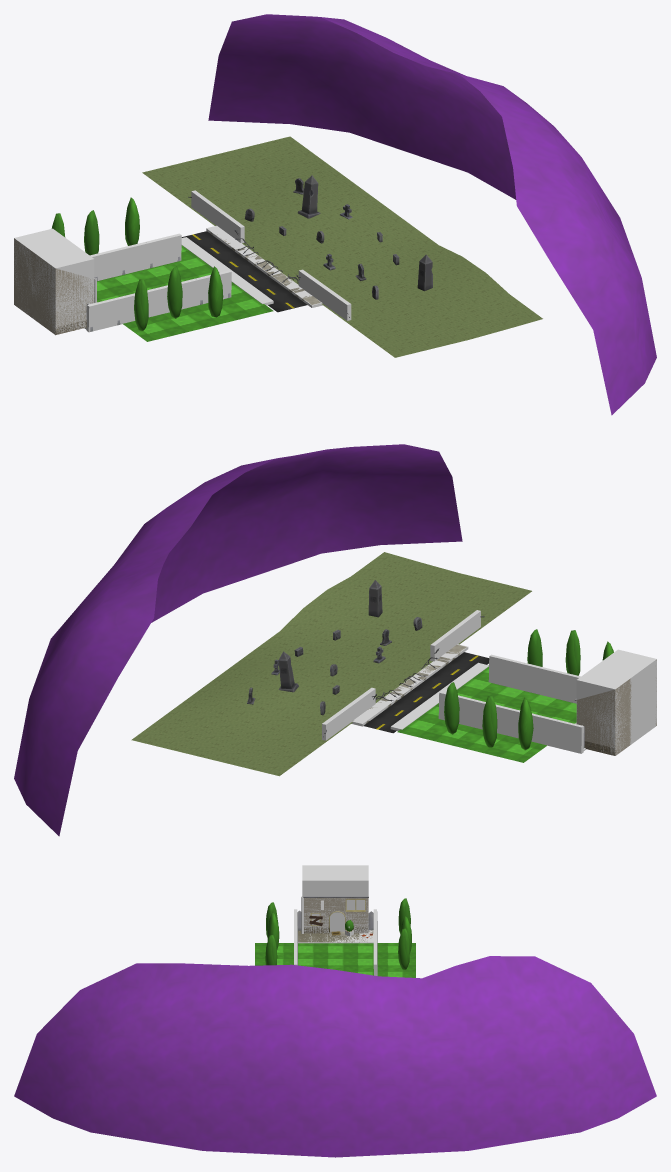
Rendered from Level_Enviroment.fbx.
3 views of the same model, one above another, from view 1: azimuth 30°, elevation 25°; view 2: azimuth 150°, elevation 25°; view 3: azimuth 270°, elevation 25° (orthographic). The views are drawn at different scales.
Parts seen in each view (by area): view 1: FogBackground, GraveyardGround, DEF_BOX_HouseBase, PlantGridPlane, HouseBase, DEF_BOX_FenceB.002, DEF_BOX_FenceB.007, RoadPlane, DEF_BOX_BlockB.003, DEF_BOX_MetalFenceLeftEdge, DEF_BOX_MetalFenceRightEdge, DEF_BOX_BlockB.006 (+6 smaller); view 2: FogBackground, GraveyardGround, DEF_BOX_HouseBase, PlantGridPlane, HouseBase, DEF_BOX_FenceB.007, DEF_BOX_FenceB.002, RoadPlane, DEF_BOX_BlockB.003, DEF_BOX_MetalFenceLeftEdge, DEF_BOX_MetalFenceRightEdge, DEF_BOX_BlockB.006 (+4 smaller); view 3: FogBackground, PlantGridPlane, DEF_BOX_HouseBase, HouseBase, HouseWalkway, DEF_BOX_HouseWalkway.
Part boxes in pixels (bbox=[...]): FogBackground: bbox=[208, 14, 656, 415]; GraveyardGround: bbox=[142, 136, 542, 357]; DEF_BOX_HouseBase: bbox=[14, 228, 94, 334]; PlantGridPlane: bbox=[97, 245, 273, 341]; HouseBase: bbox=[14, 238, 94, 335]; DEF_BOX_FenceB.002: bbox=[86, 270, 231, 332]; DEF_BOX_FenceB.007: bbox=[90, 233, 181, 280]; RoadPlane: bbox=[181, 231, 307, 312]; DEF_BOX_BlockB.003: bbox=[206, 225, 322, 307]; DEF_BOX_MetalFenceLeftEdge: bbox=[191, 190, 244, 243]; DEF_BOX_MetalFenceRightEdge: bbox=[298, 269, 351, 320]; DEF_BOX_BlockB.006: bbox=[181, 237, 273, 305]; FogBackground: bbox=[14, 444, 462, 836]; GraveyardGround: bbox=[131, 552, 531, 776]; DEF_BOX_HouseBase: bbox=[576, 649, 656, 755]; PlantGridPlane: bbox=[397, 665, 576, 762]; HouseBase: bbox=[577, 660, 656, 755]; DEF_BOX_FenceB.007: bbox=[438, 691, 583, 753]; DEF_BOX_FenceB.002: bbox=[488, 654, 580, 703]; RoadPlane: bbox=[363, 652, 489, 733]; DEF_BOX_BlockB.003: bbox=[351, 644, 468, 726]; DEF_BOX_MetalFenceLeftEdge: bbox=[322, 687, 375, 740]; DEF_BOX_MetalFenceRightEdge: bbox=[430, 610, 480, 661]; DEF_BOX_BlockB.006: bbox=[390, 662, 488, 730]; FogBackground: bbox=[14, 956, 656, 1157]; PlantGridPlane: bbox=[255, 943, 415, 977]; DEF_BOX_HouseBase: bbox=[302, 865, 368, 933]; HouseBase: bbox=[304, 898, 368, 933]; HouseWalkway: bbox=[298, 930, 373, 942]; DEF_BOX_HouseWalkway: bbox=[298, 930, 373, 943].
Size of the model in its own units: 50.26 by 65.87 by 16.76.
